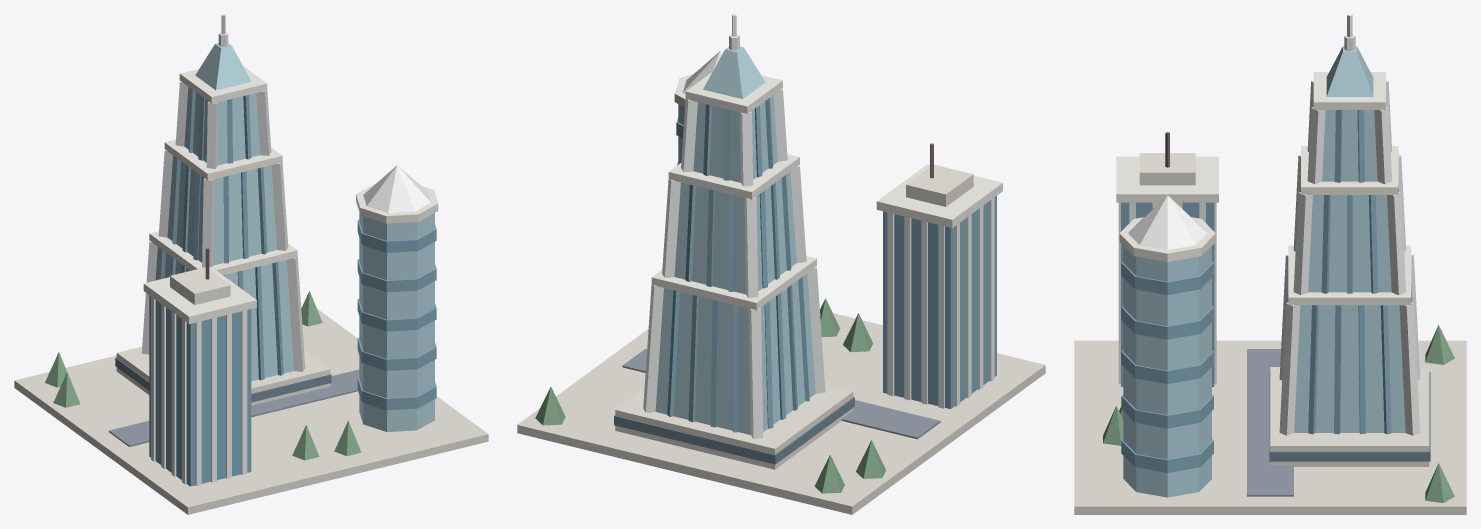
File: skyscraper.glb
3 views of the same model, side by side, from view 1: azimuth 30°, elevation 25°; view 2: azimuth 150°, elevation 25°; view 3: azimuth 270°, elevation 25° (orthographic). The views are drawn at different scales.
Visible parts, largest first — view 1: wonder_skyscraper; view 2: wonder_skyscraper; view 3: wonder_skyscraper.
Boxes of the visible parts, x1=… form: wonder_skyscraper: x1=14, y1=14, x2=488, y2=514; wonder_skyscraper: x1=517, y1=14, x2=1045, y2=514; wonder_skyscraper: x1=1074, y1=14, x2=1466, y2=514.
Size of the model in its own units: 0.84 by 0.994 by 0.84.
